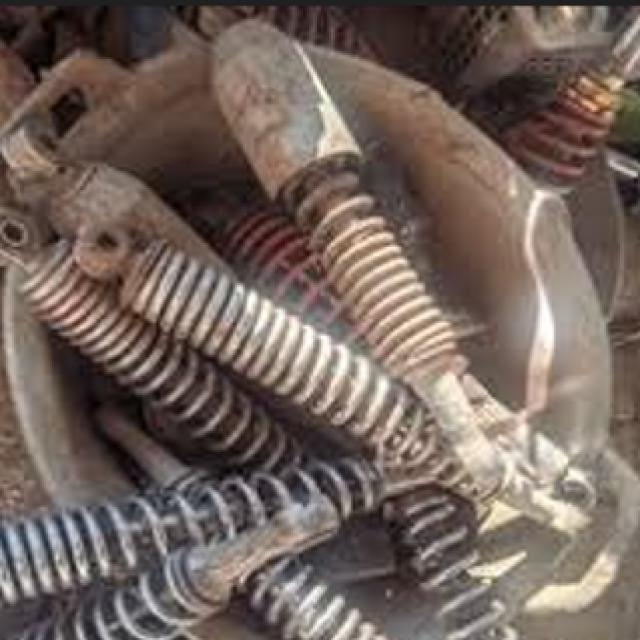shock absorber: (213, 16, 508, 498), (73, 222, 475, 495), (1, 208, 330, 470), (2, 454, 380, 608)
